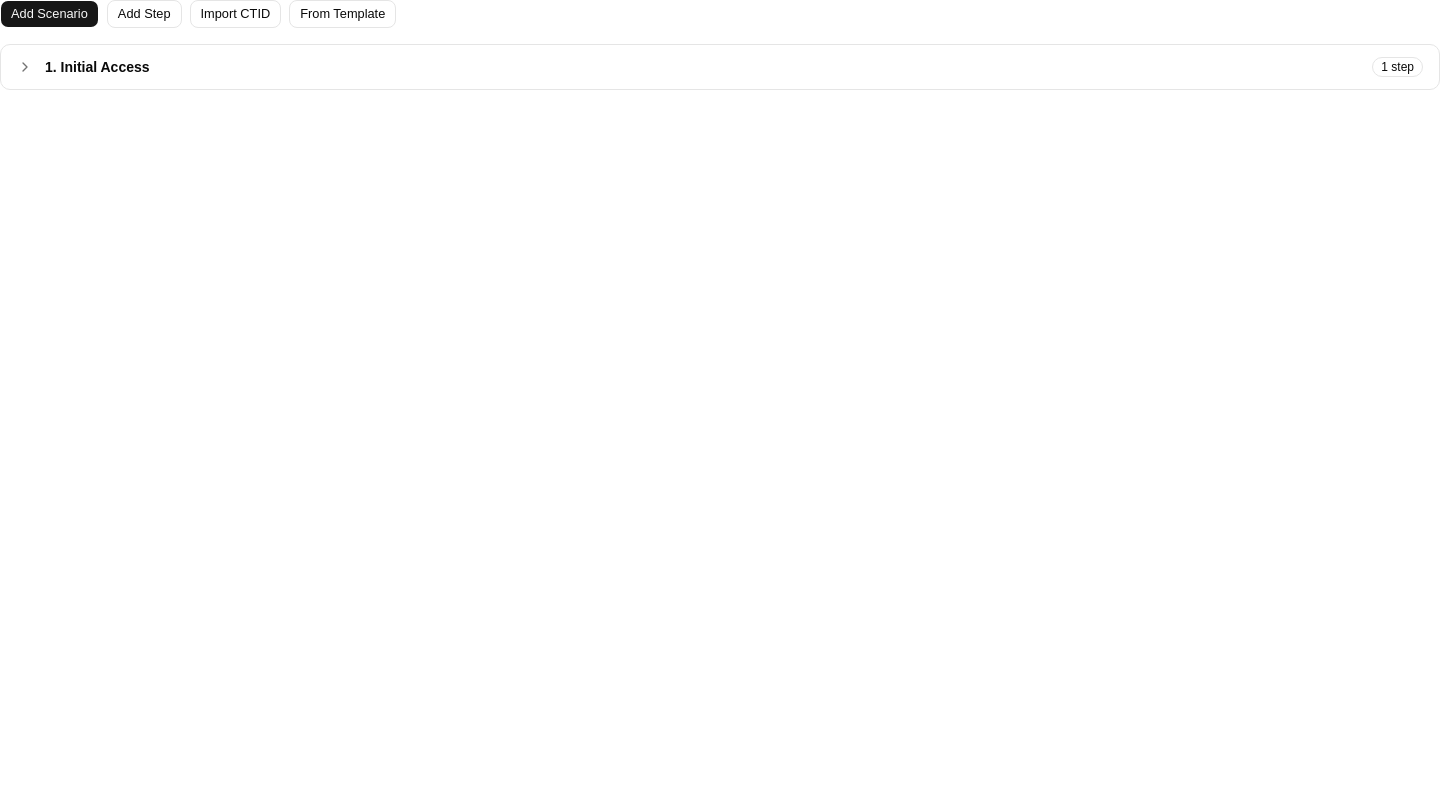
Test: BlueDetectionEditor — scoring › shows 5-button scale with tooltips for detection category
Click the heading "1. Initial Access": click(97, 67) [45,59,150,75]
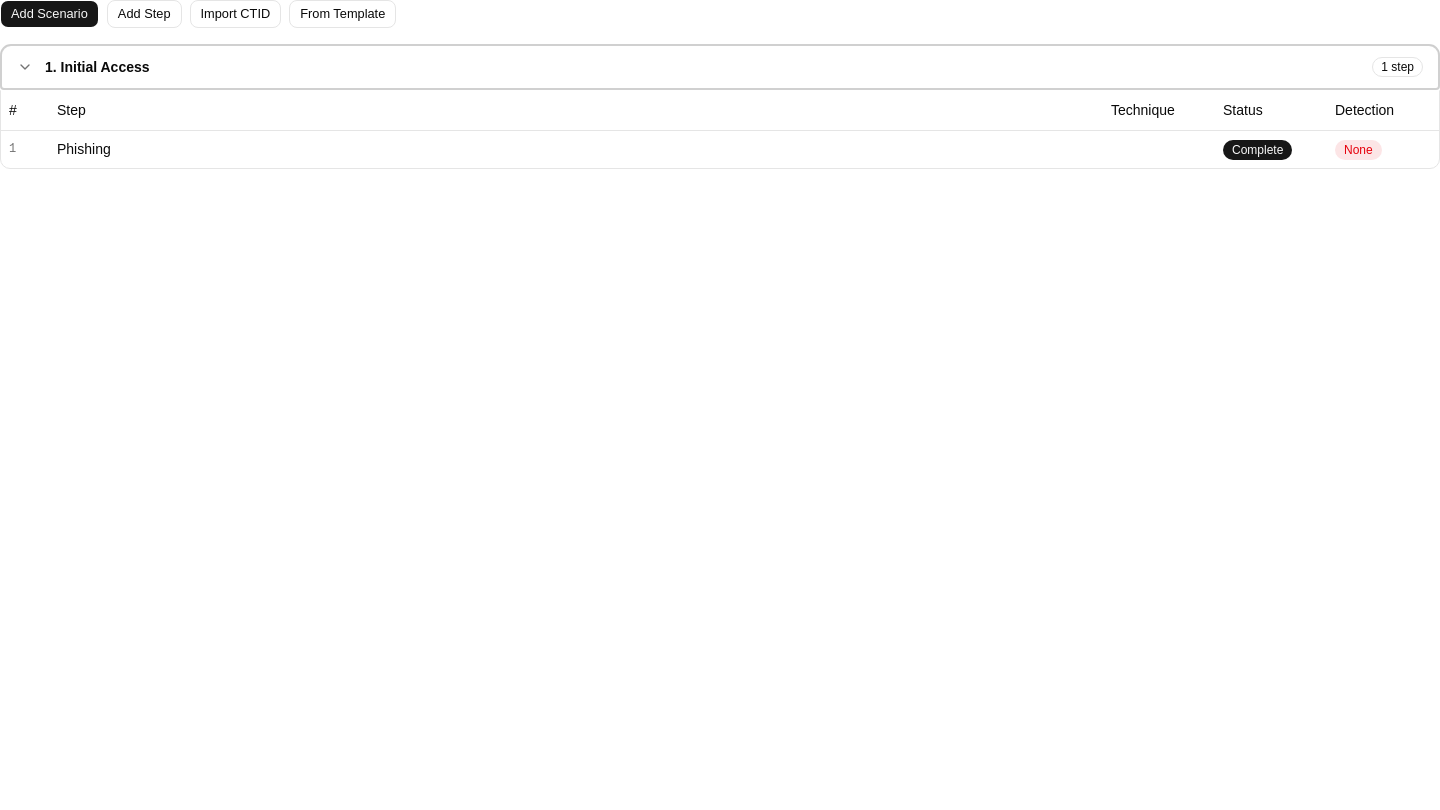
Click the text "Phishing": click(84, 149) [57,139,111,159]
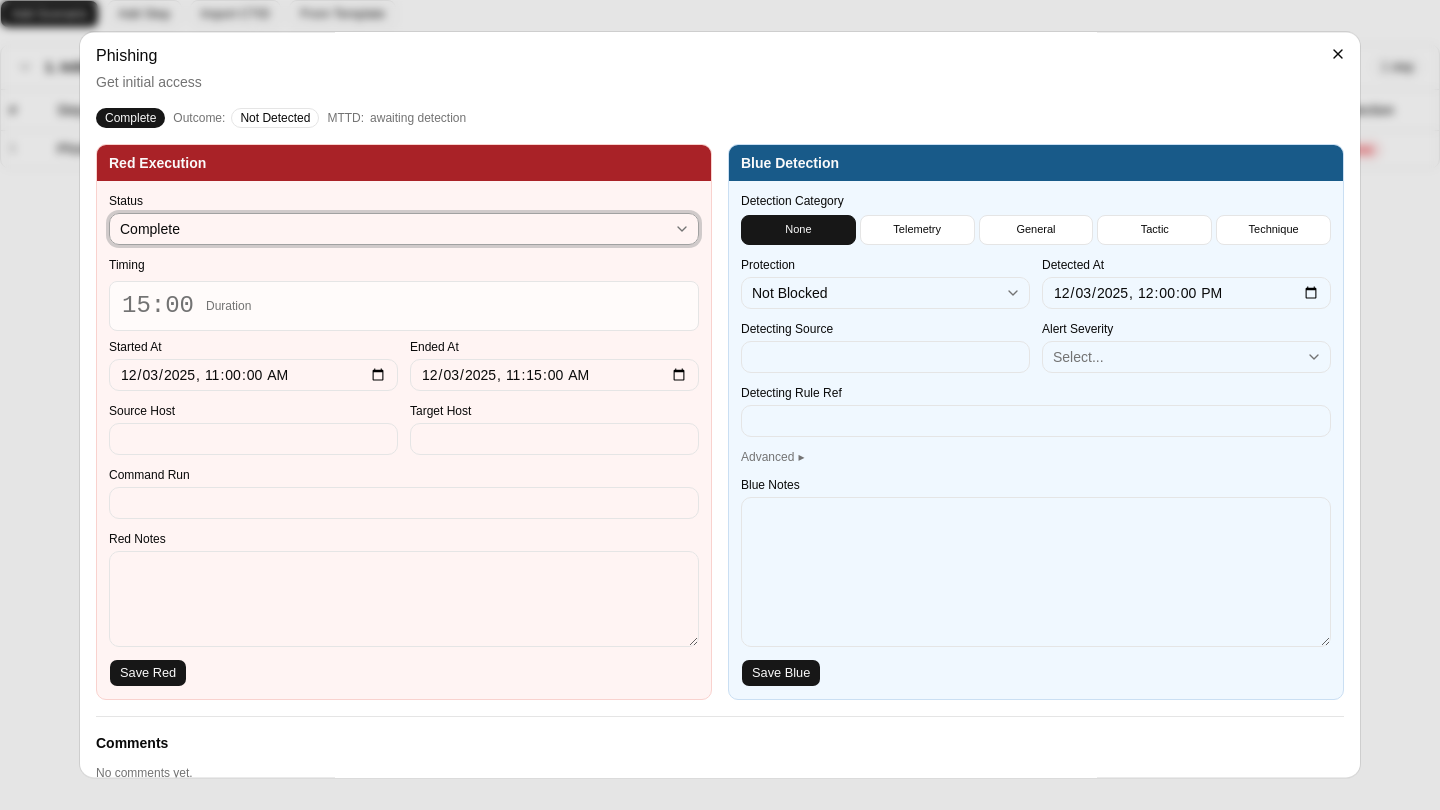
Now the button "None" is shown, box [741,215,856,245]
Now the button "Telemetry" is shown, box [860,215,975,245]
Now the button "General" is shown, box [979,215,1093,245]
